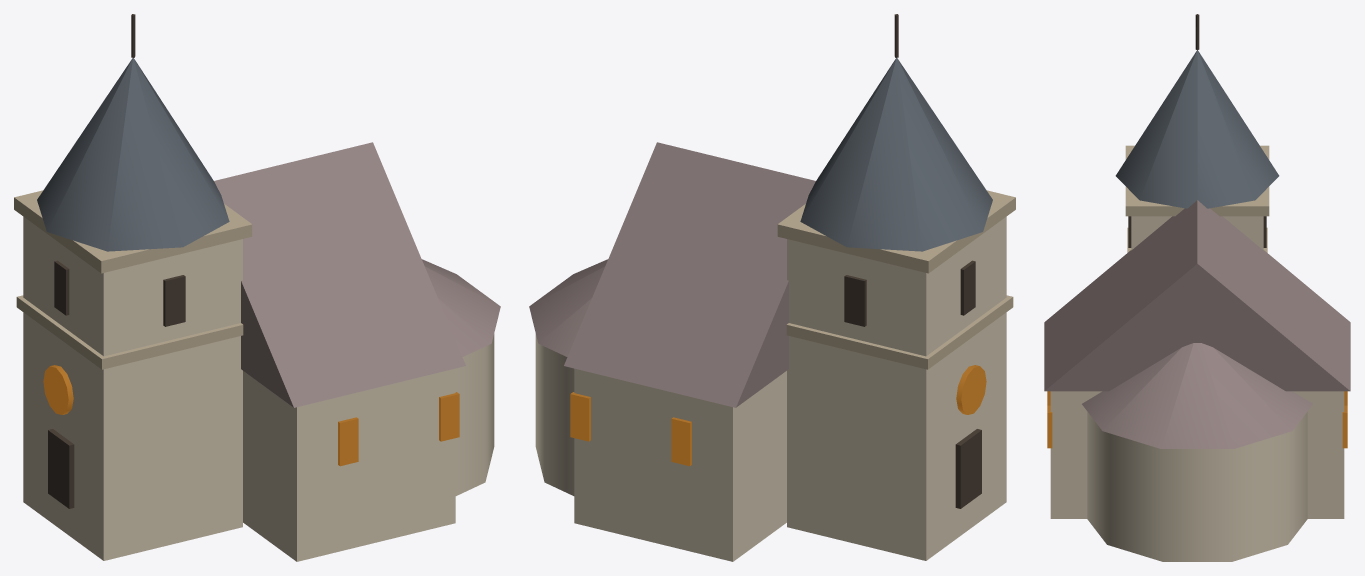
Rendered from monastere-des-clarisses-capucines-2.glb.
3 views of the same model, side by side, from view 1: azimuth 30°, elevation 25°; view 2: azimuth 150°, elevation 25°; view 3: azimuth 270°, elevation 25° (orthographic). The views are drawn at different scales.
Parts seen in each view (by area): view 1: Monastère des Clarisses Capucines; view 2: Monastère des Clarisses Capucines; view 3: Monastère des Clarisses Capucines.
Part boxes in pixels (x1,y1,x2,y2): Monastère des Clarisses Capucines: [14, 14, 500, 561]; Monastère des Clarisses Capucines: [529, 14, 1015, 561]; Monastère des Clarisses Capucines: [1044, 14, 1350, 561].
Bounding box in the file's own units: 25.66 × 28.38 × 19.19.
